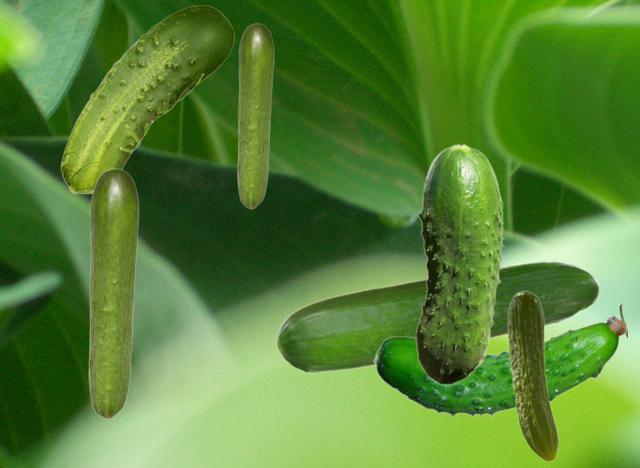cucumber: (275, 260, 599, 373), (60, 5, 233, 194), (372, 303, 626, 417), (415, 143, 504, 384), (88, 168, 138, 418), (507, 290, 558, 461), (237, 23, 273, 208)
